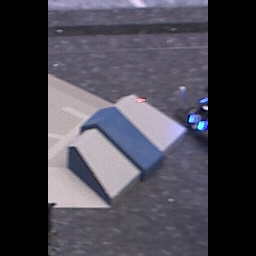Blue: (188, 114, 205, 131)
Robot: (178, 89, 209, 138)
